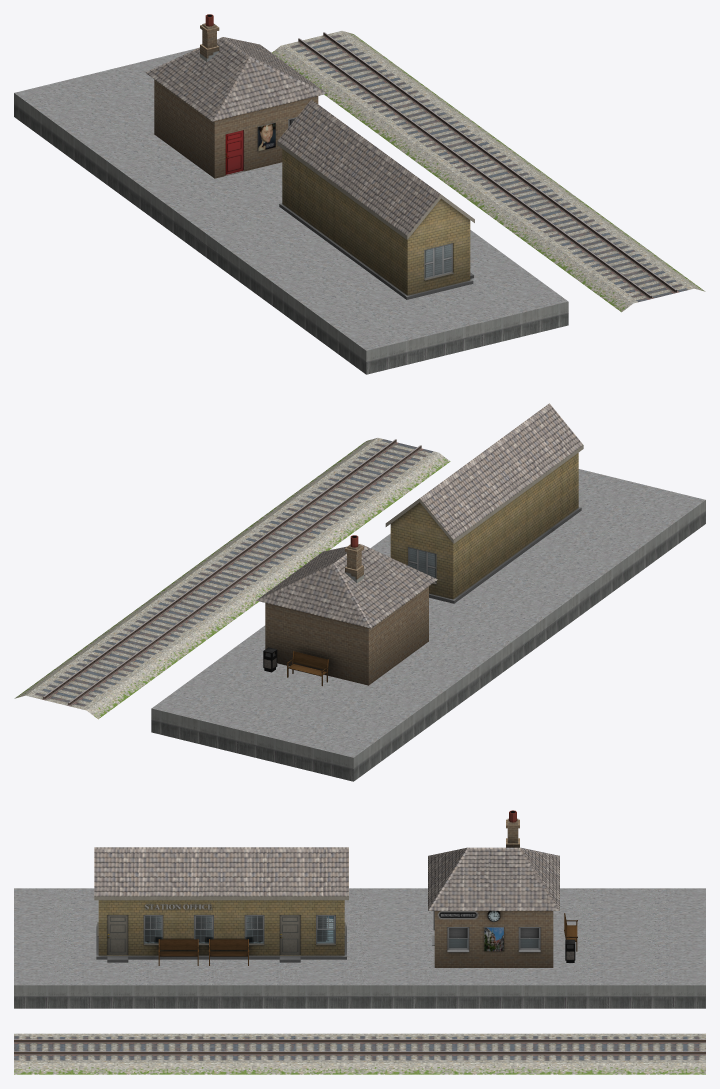
Rendered from StationOffice1.fbx.
3 renders of one model, top to bottom at view 1: azimuth 30°, elevation 25°; view 2: azimuth 150°, elevation 25°; view 3: azimuth 270°, elevation 25°, orthographic.
Visible parts, largest first — view 1: U3DMesh; view 2: U3DMesh; view 3: U3DMesh.
Part boxes in pixels (bbox=[...]): U3DMesh: bbox=[14, 14, 705, 374]; U3DMesh: bbox=[14, 403, 705, 781]; U3DMesh: bbox=[14, 810, 705, 1074].
Size of the model in its own units: 17.81 by 7.47 by 32.
